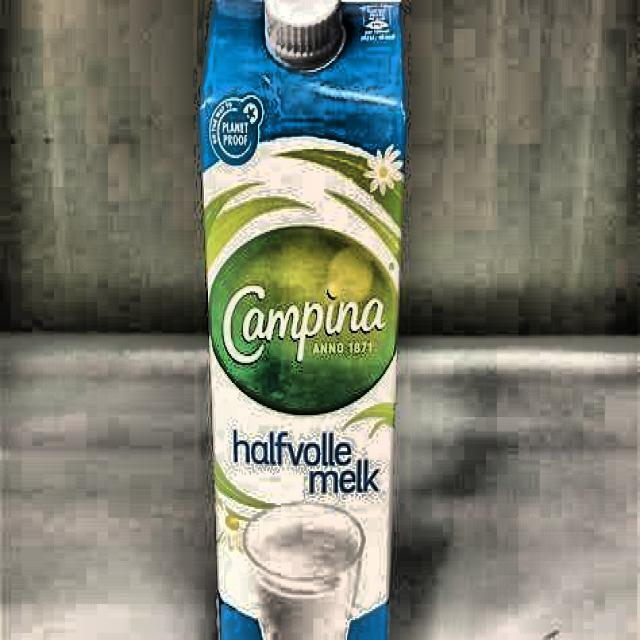cardboard: (196, 0, 408, 638)
